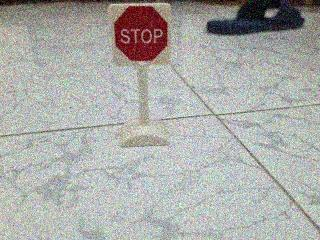stop: (100, 0, 181, 81)
